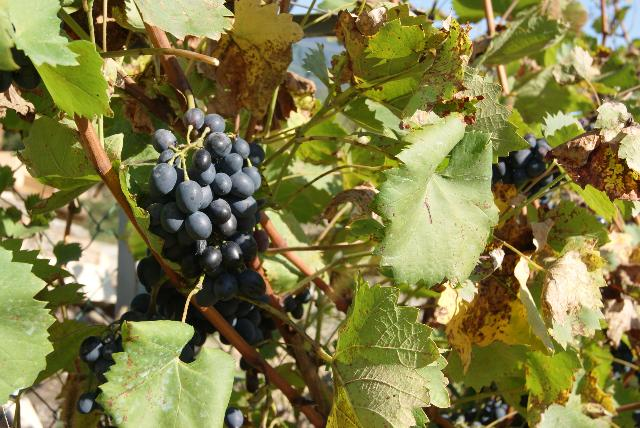grapes: (146, 108, 266, 319)
